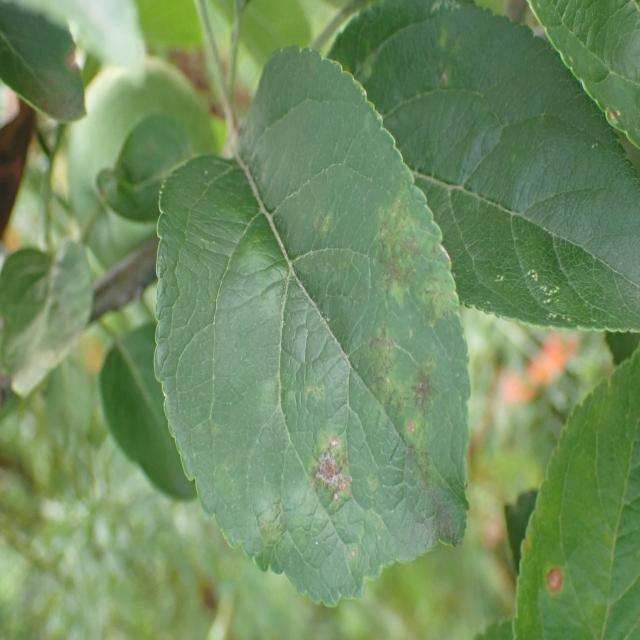scab: (268, 158, 461, 612)
